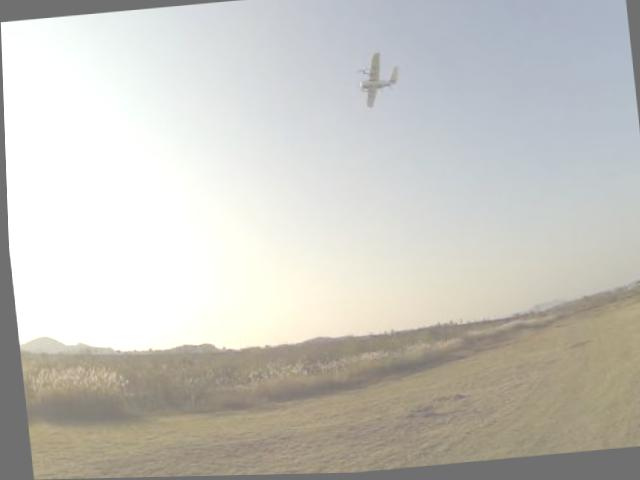uav: (345, 44, 406, 117)
